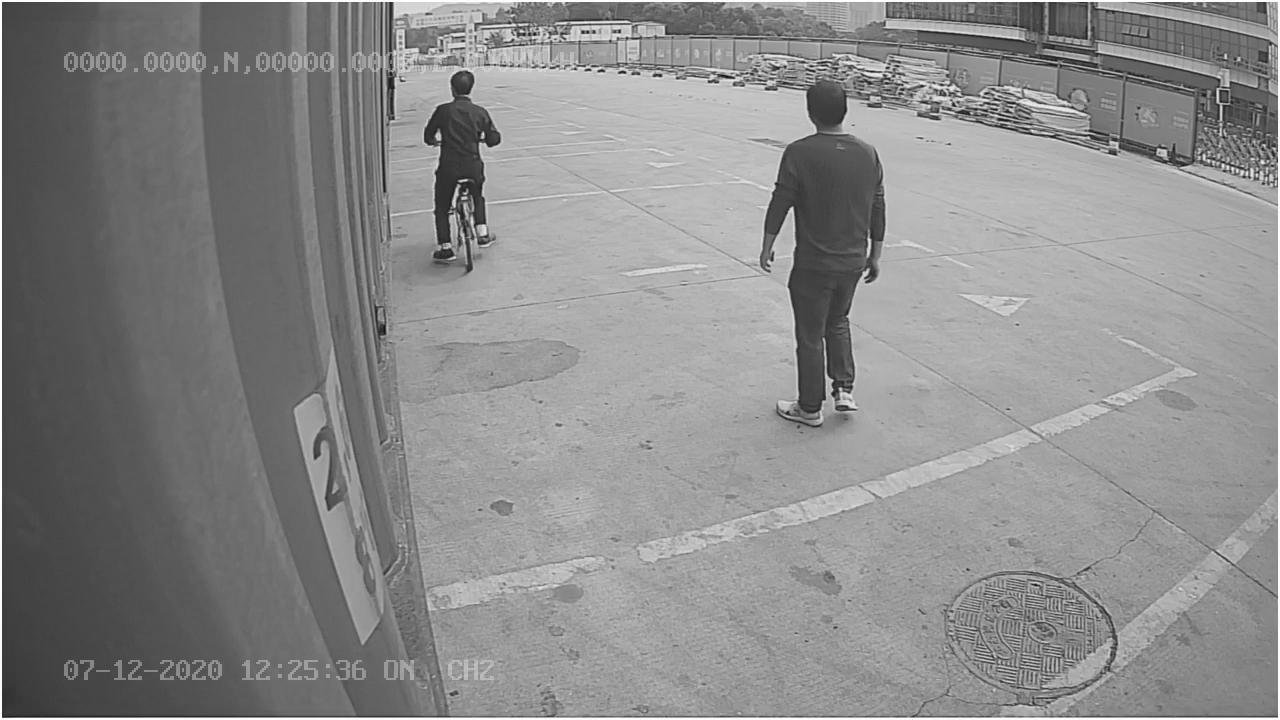person: (751, 73, 892, 434)
